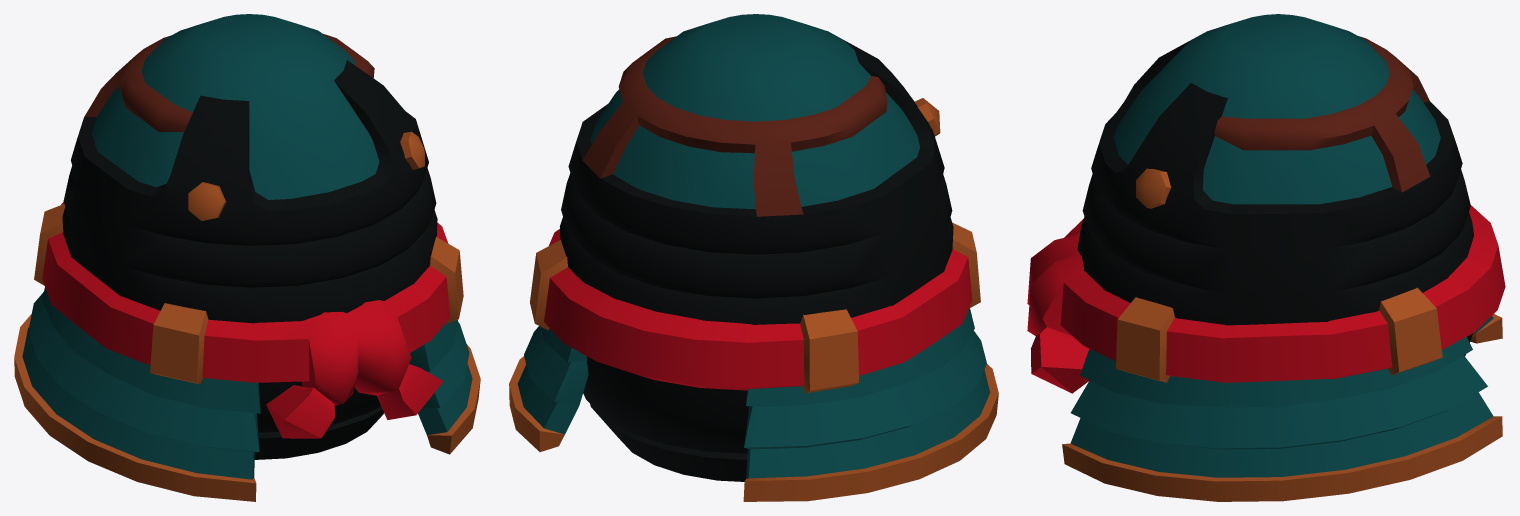
File: character_samurai_body_green.obj
3 renders of one model, left to right at view 1: azimuth 30°, elevation 25°; view 2: azimuth 150°, elevation 25°; view 3: azimuth 270°, elevation 25°, orthographic. The views are drawn at different scales.
Parts seen in each view (by area): view 1: character_samurai_body_green_Cube.138; view 2: character_samurai_body_green_Cube.138; view 3: character_samurai_body_green_Cube.138.
Boxes of the visible parts, bbox=[...] form: character_samurai_body_green_Cube.138: bbox=[14, 14, 480, 501]; character_samurai_body_green_Cube.138: bbox=[509, 14, 998, 501]; character_samurai_body_green_Cube.138: bbox=[1027, 14, 1505, 501].
Bounding box in the file's own units: 0.8198 × 0.7287 × 0.83.
